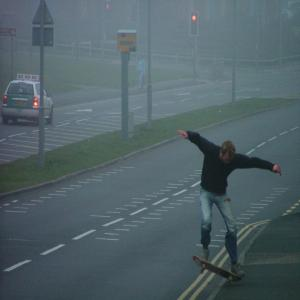Vehicle-registration-plate: (16, 101, 27, 106)
